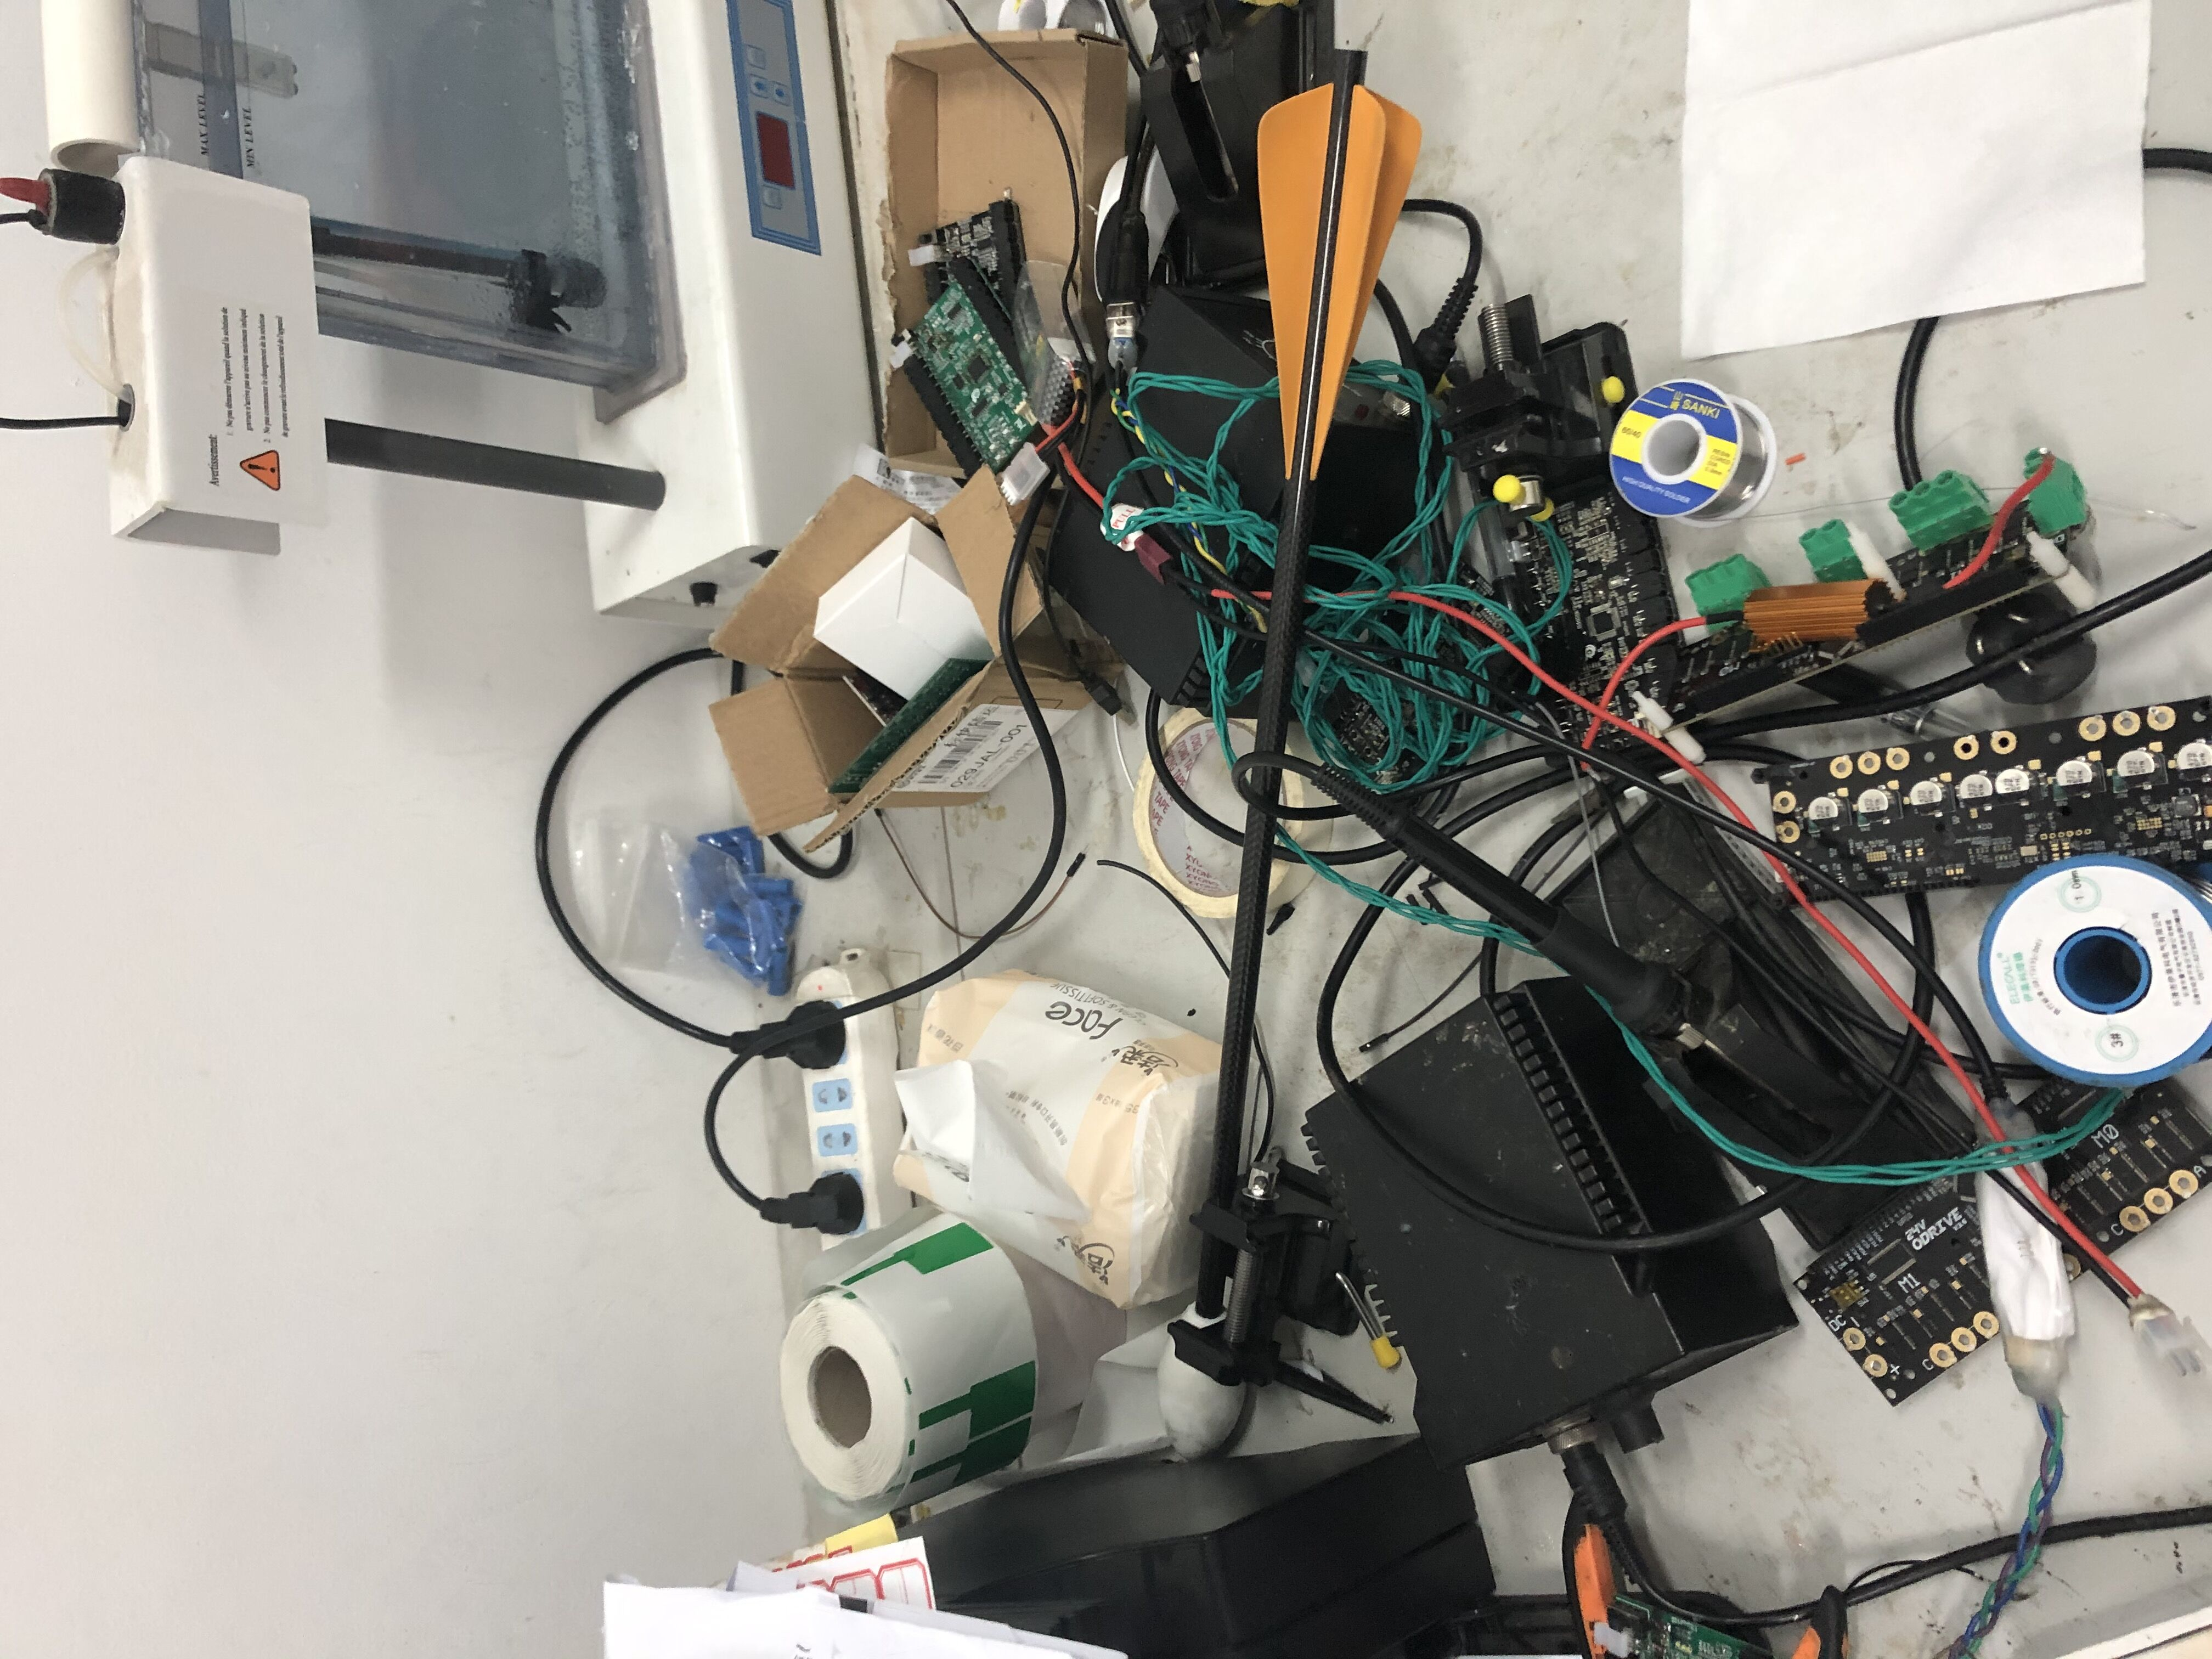arrow: (1151, 45, 1430, 1466)
arrowFront: (1160, 1307, 1244, 1455)
